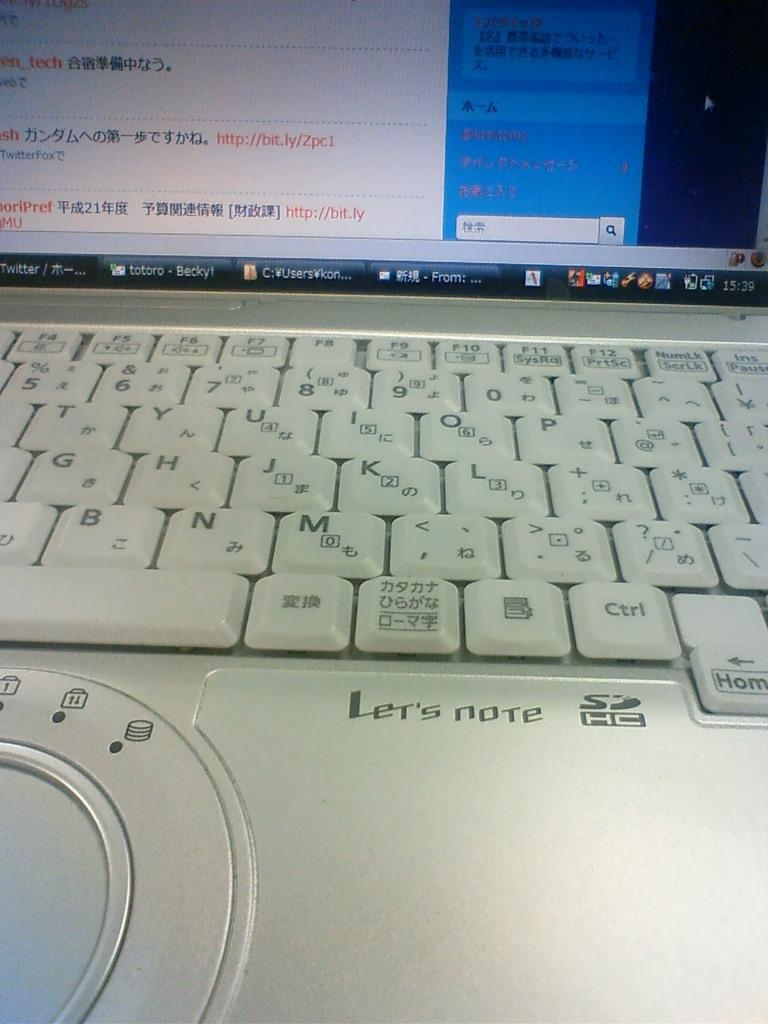Computer-keyboard: (0, 323, 767, 721)
Laptop: (2, 36, 707, 1011)
